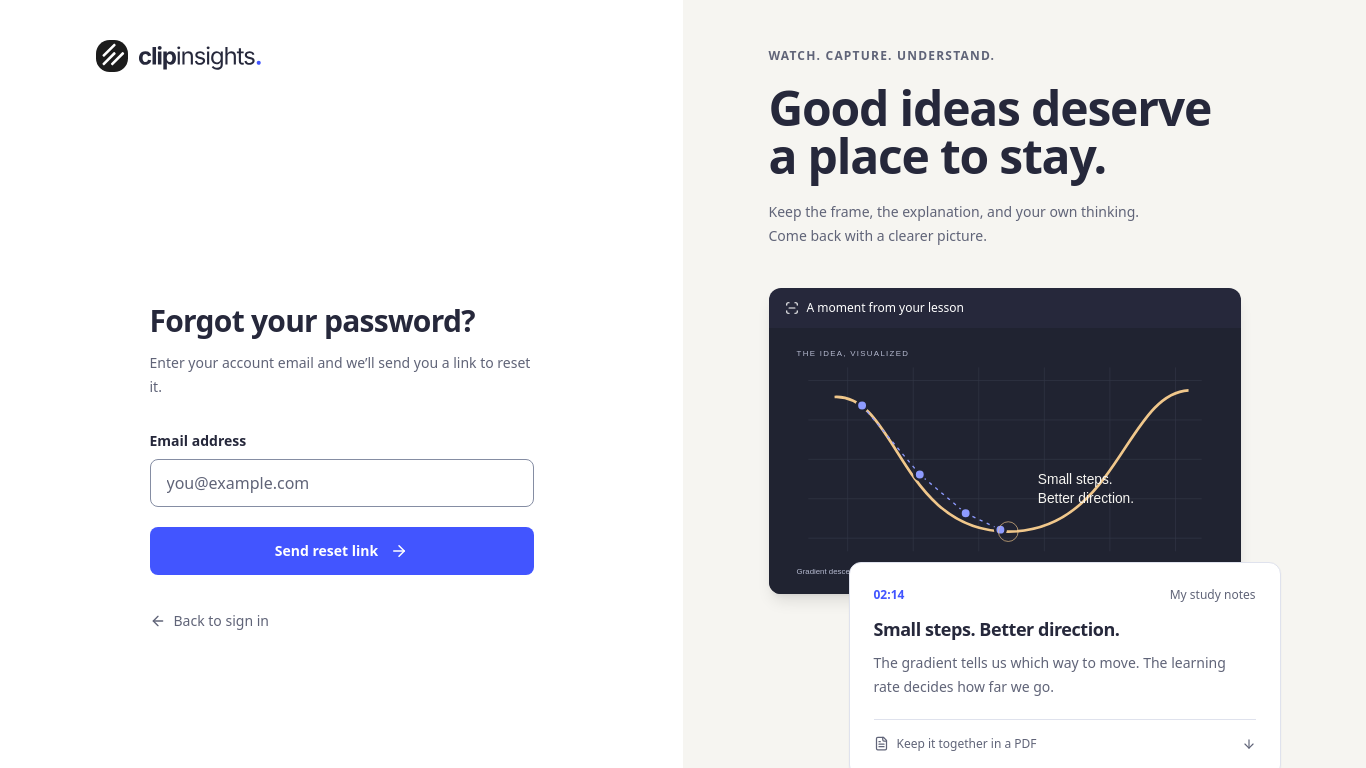
Test: account recovery › retains the entered email after failure and shows a confirmation after retry
The width and height of the screenshot is (1366, 768).
Type "learner@example.test" into the field labelled "Email address". click: (342, 483)
box: [150, 459, 534, 507]
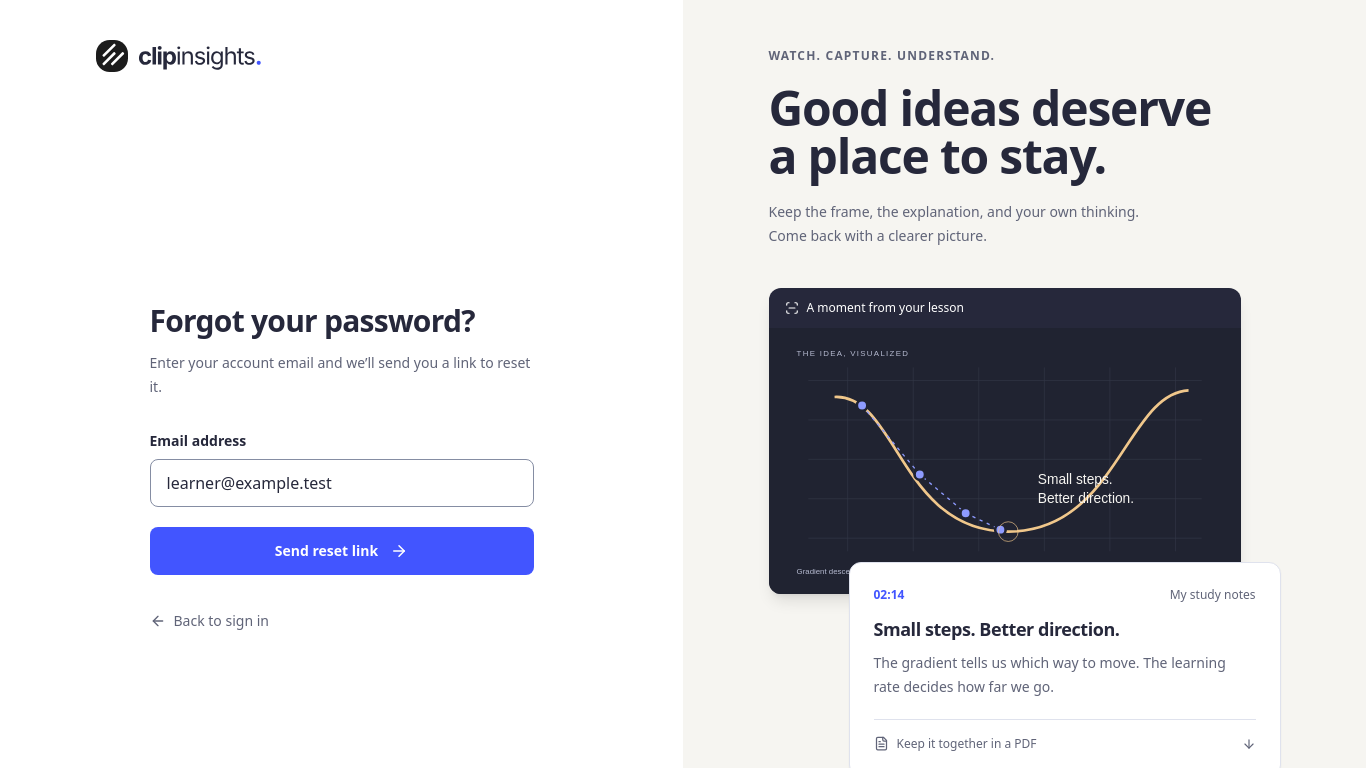
Click the button "Send reset link". click: (342, 551)
box: [150, 527, 534, 575]
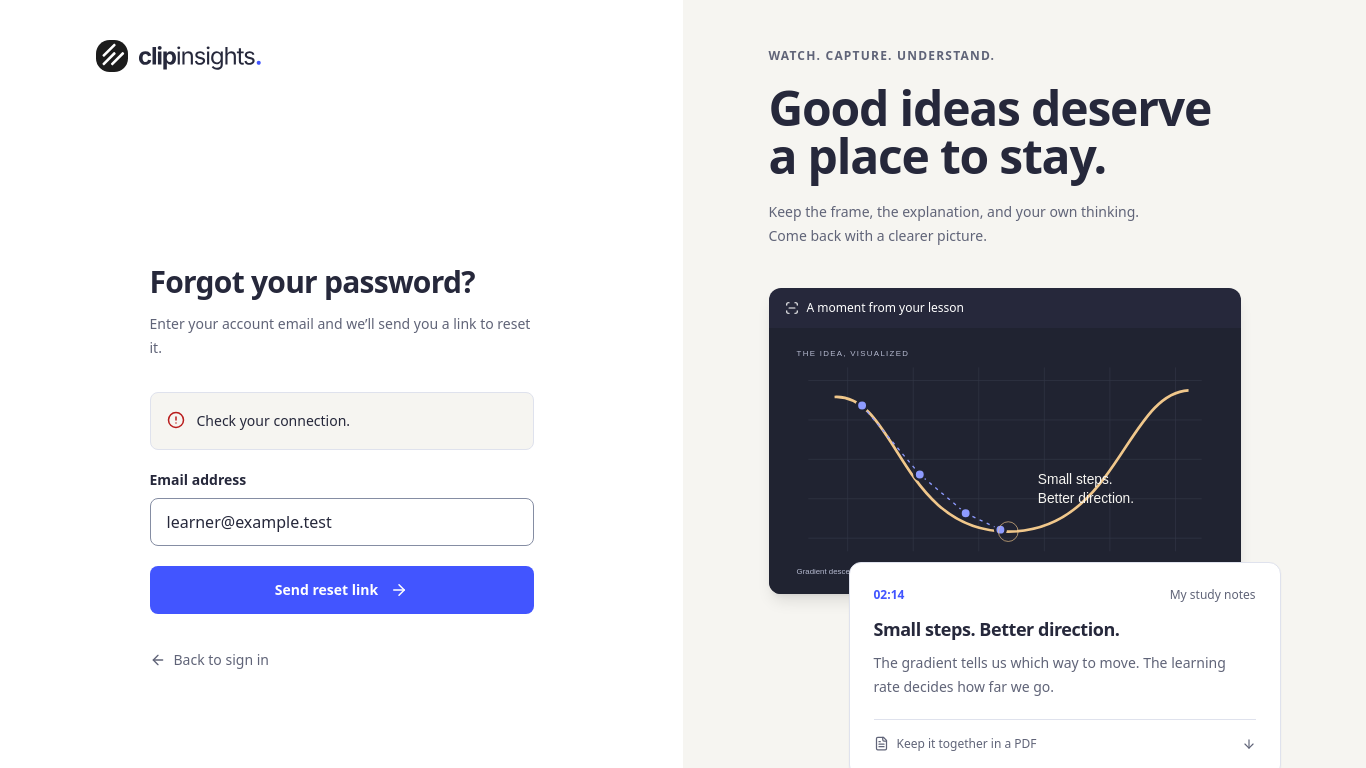
Expected: the message "Check your connection." is shown, [150, 392, 534, 450]
Click the button "Send reset link". click: (342, 590)
box: [150, 566, 534, 614]
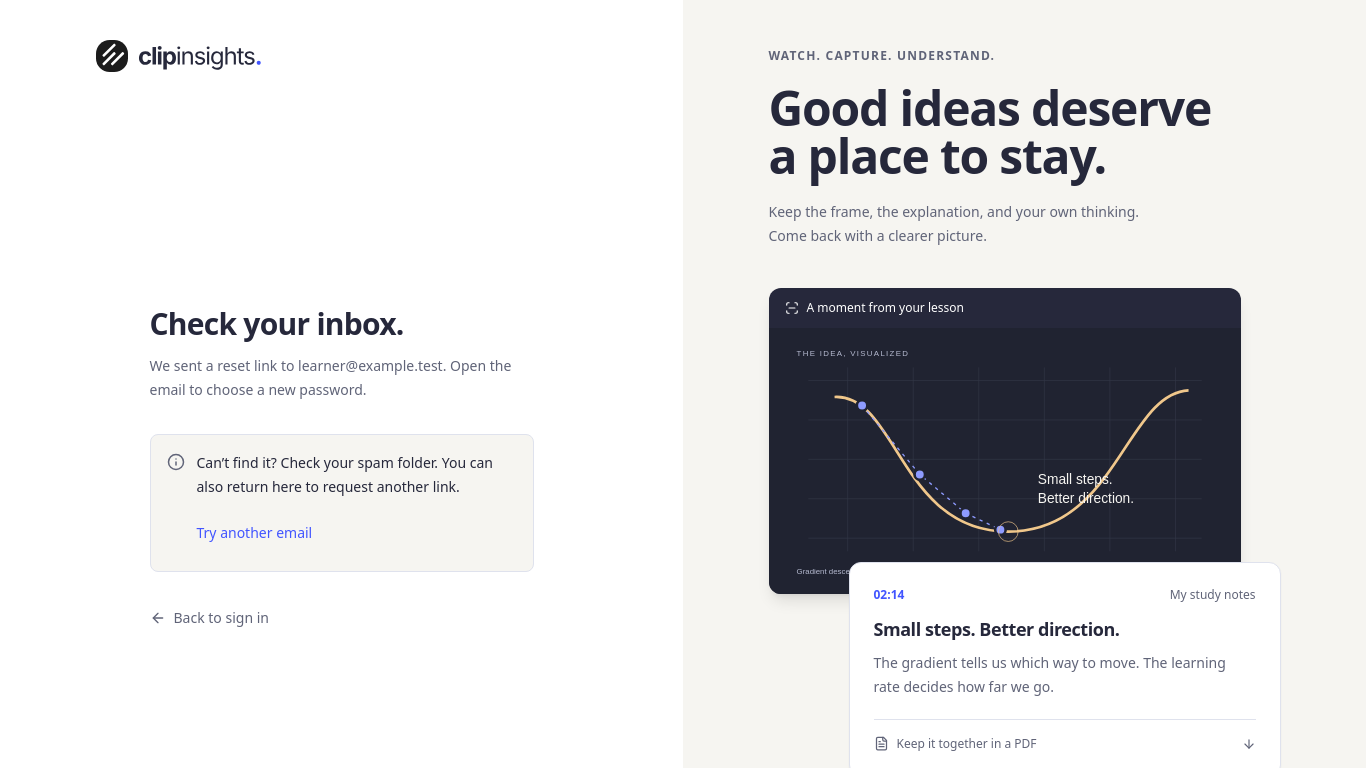
Expected: the heading "Check your inbox." is shown, [150, 303, 404, 344]
